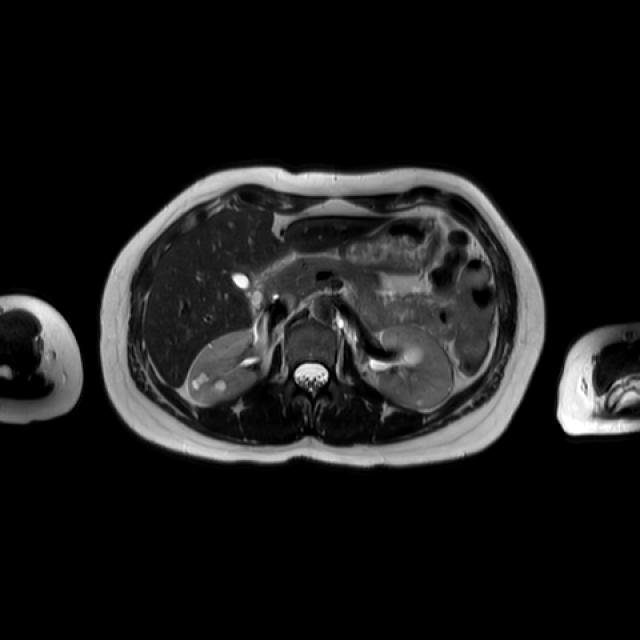sag: (186, 327, 260, 404)
sol: (379, 323, 455, 410)
